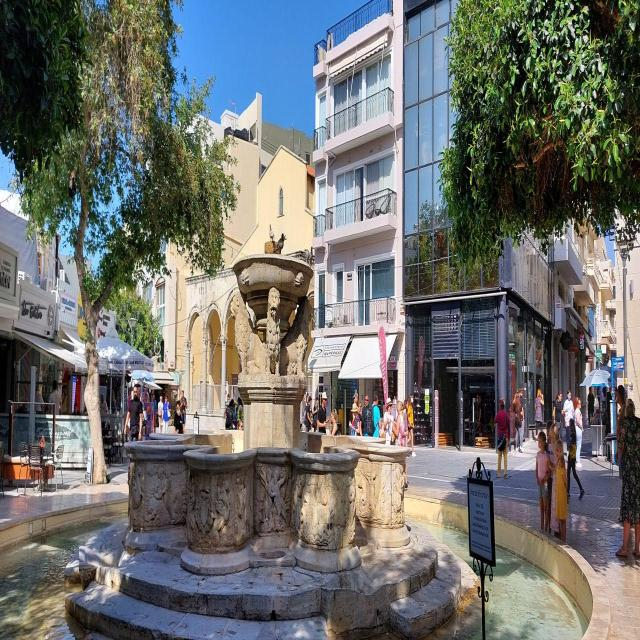Liontaria: (130, 232, 414, 565)
